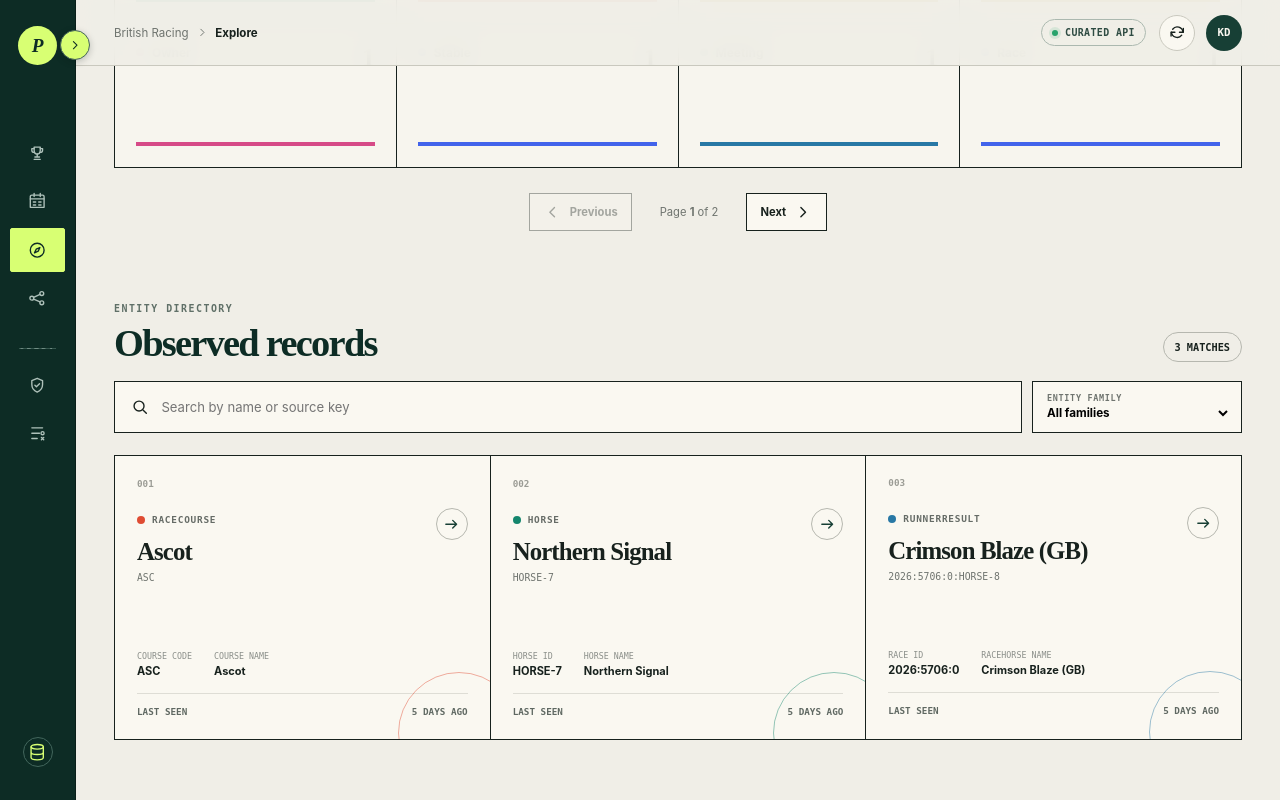
curated data workspace › foregrounds the entity type, result position and linked records
(page scrolled)
Expected: the heading "Observed records" is shown, [114, 324, 377, 362]
Click the button that starts with "RunnerResult": (942, 519) [866, 456, 1242, 740]
(page scrolled)
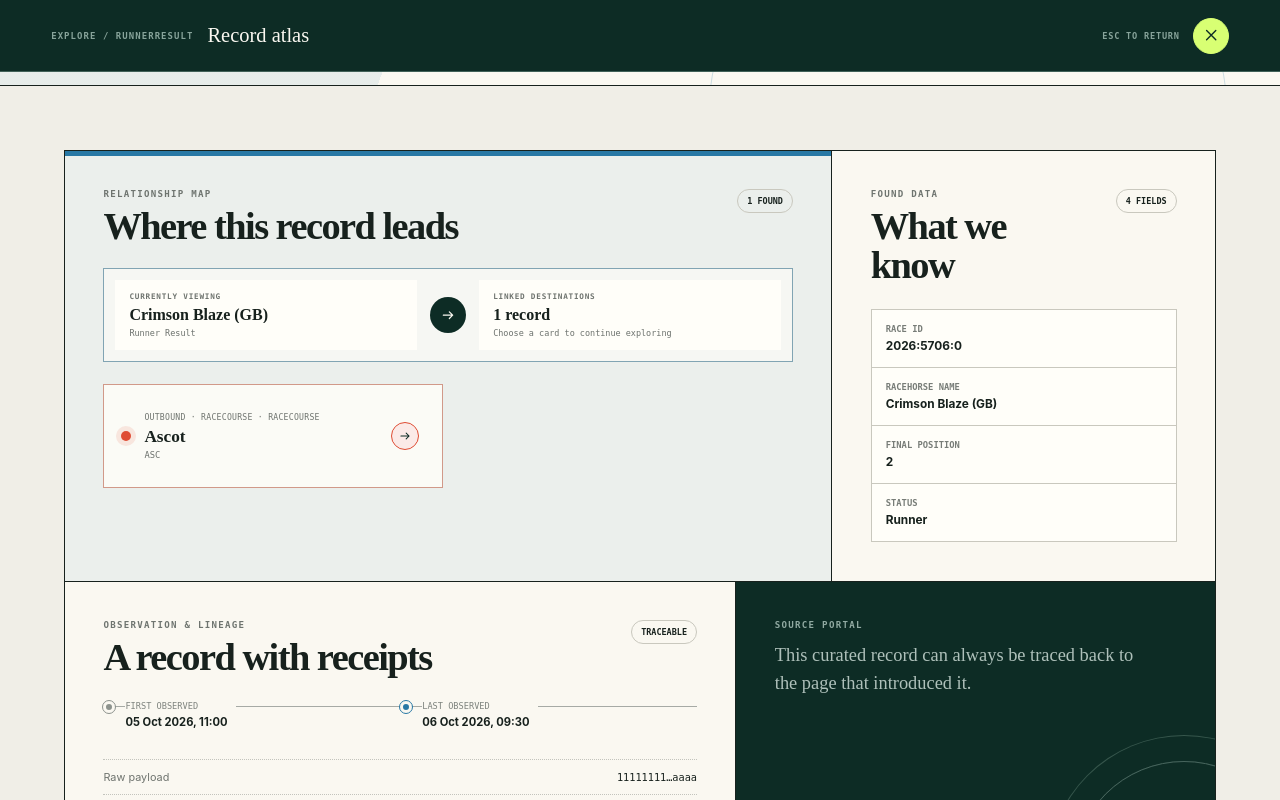
Expected: the heading "Where this record leads" is shown, [103, 207, 458, 246]
Expected: the button "outbound · racecourse · Racecourse Ascot ASC" is shown, [103, 384, 443, 488]
